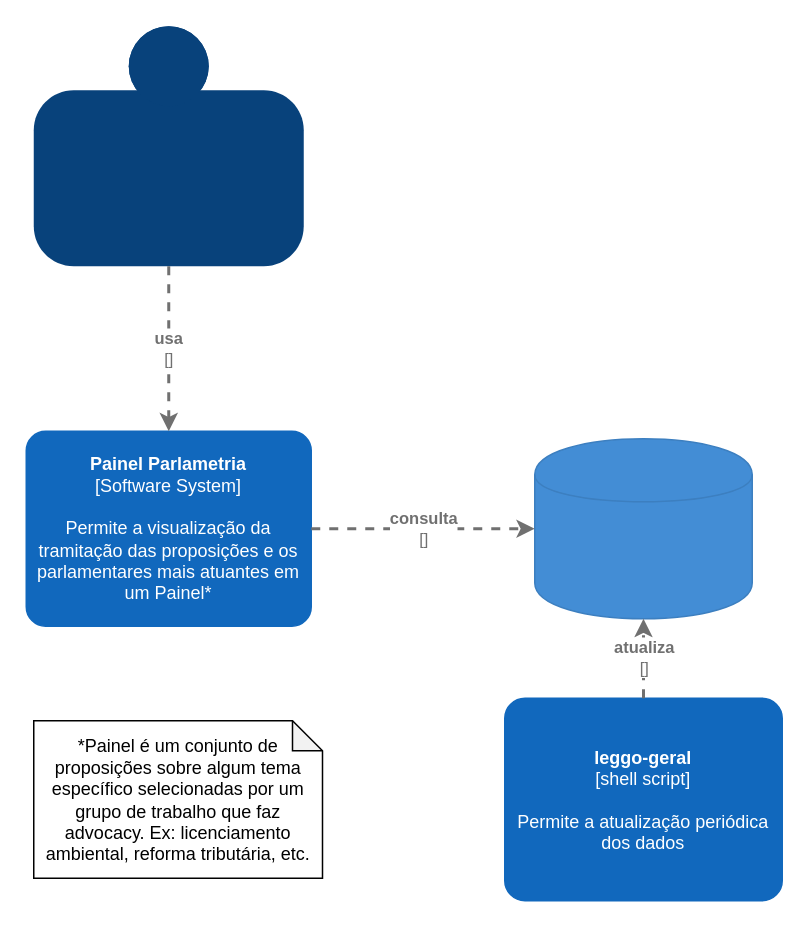
Image size: 809x927. Some labels were removed from this diagram. The box of each missing label's shape, as (x1, y1, x2, y2) in pixels:
Database [Container: PostgreSQL] Dados do Parlametria: (533, 437, 752, 619)
Usuário [Person] Pessoa que faz advocacy: (33, 26, 303, 266)
